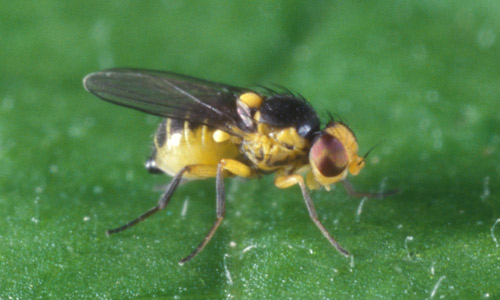Trifoli: (78, 62, 394, 281)
